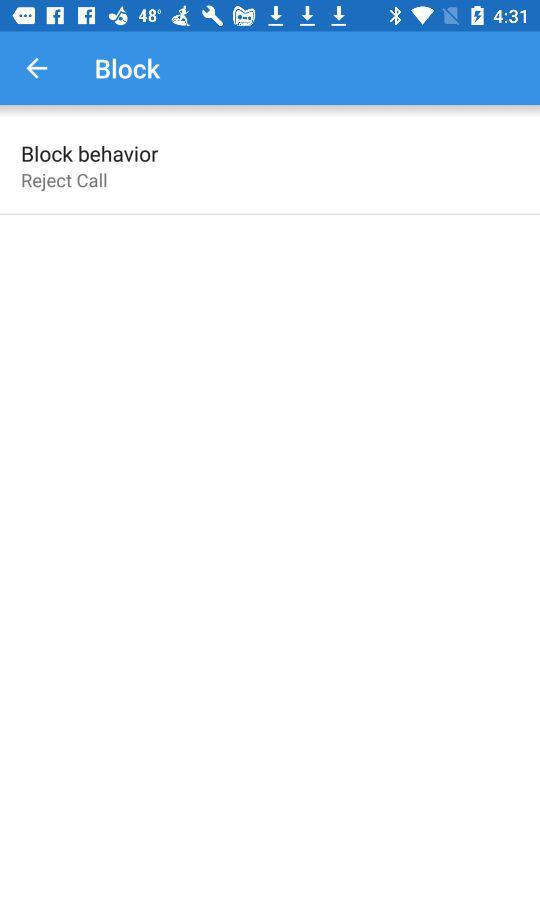Icon: (26, 58, 49, 81)
Text: (23, 146, 160, 164), (22, 173, 108, 193), (96, 58, 162, 81)
Toolbar: (1, 34, 540, 106)
UpperTaskBar: (1, 1, 540, 33)
